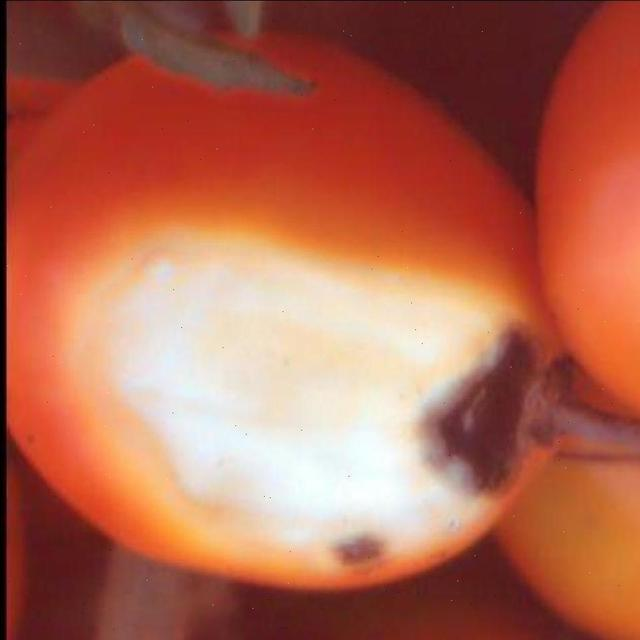Sunscald Fruit: (43, 147, 353, 384)
